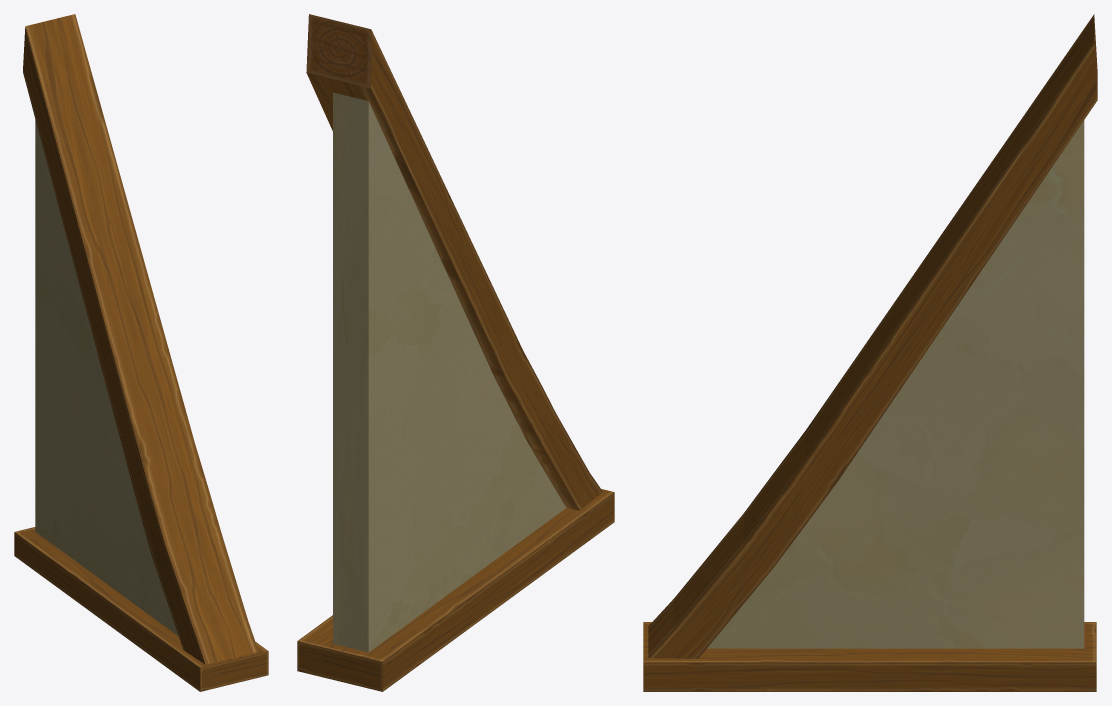
File: SM_House_Roof_01_WallBottom_Standard_01.fbx
The picture shows the model from 3 angles, left to right: view 1: azimuth 30°, elevation 25°; view 2: azimuth 150°, elevation 25°; view 3: azimuth 270°, elevation 25°; orthographic projection. The views are drawn at different scales.
Parts seen in each view (by area): view 1: SM_House_Roof_01_WallBottom_Standard_01; view 2: SM_House_Roof_01_WallBottom_Standard_01; view 3: SM_House_Roof_01_WallBottom_Standard_01.
Boxes of the visible parts, x1,y1,x2,y2 form: SM_House_Roof_01_WallBottom_Standard_01: [14, 14, 268, 691]; SM_House_Roof_01_WallBottom_Standard_01: [297, 14, 614, 691]; SM_House_Roof_01_WallBottom_Standard_01: [643, 14, 1097, 691].
Size of the model in its own units: 0.3803 by 2.8 by 1.79.
